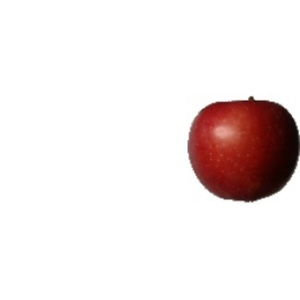maçã braeburn: (185, 97, 300, 203)
